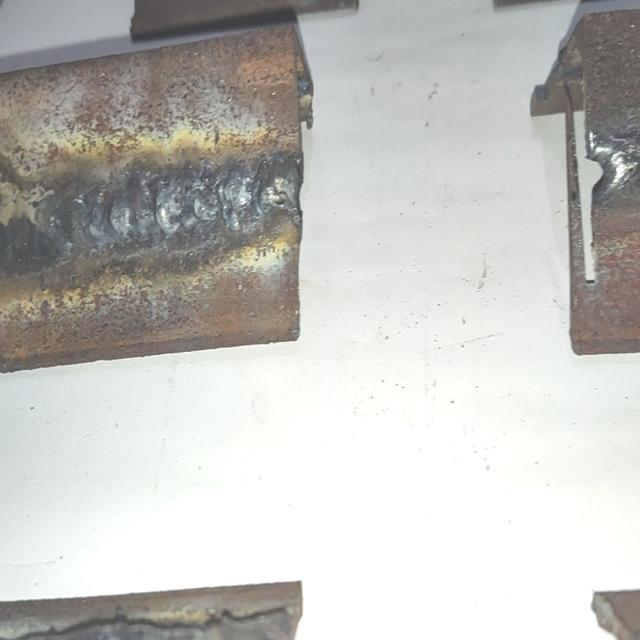Welding Line: (0, 158, 295, 255)
Workpiece: (0, 26, 301, 358)
